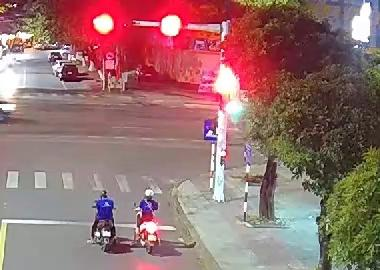red_light: (214, 60, 240, 115), (151, 12, 187, 38), (91, 13, 116, 36)
stop_line: (2, 215, 189, 233)
